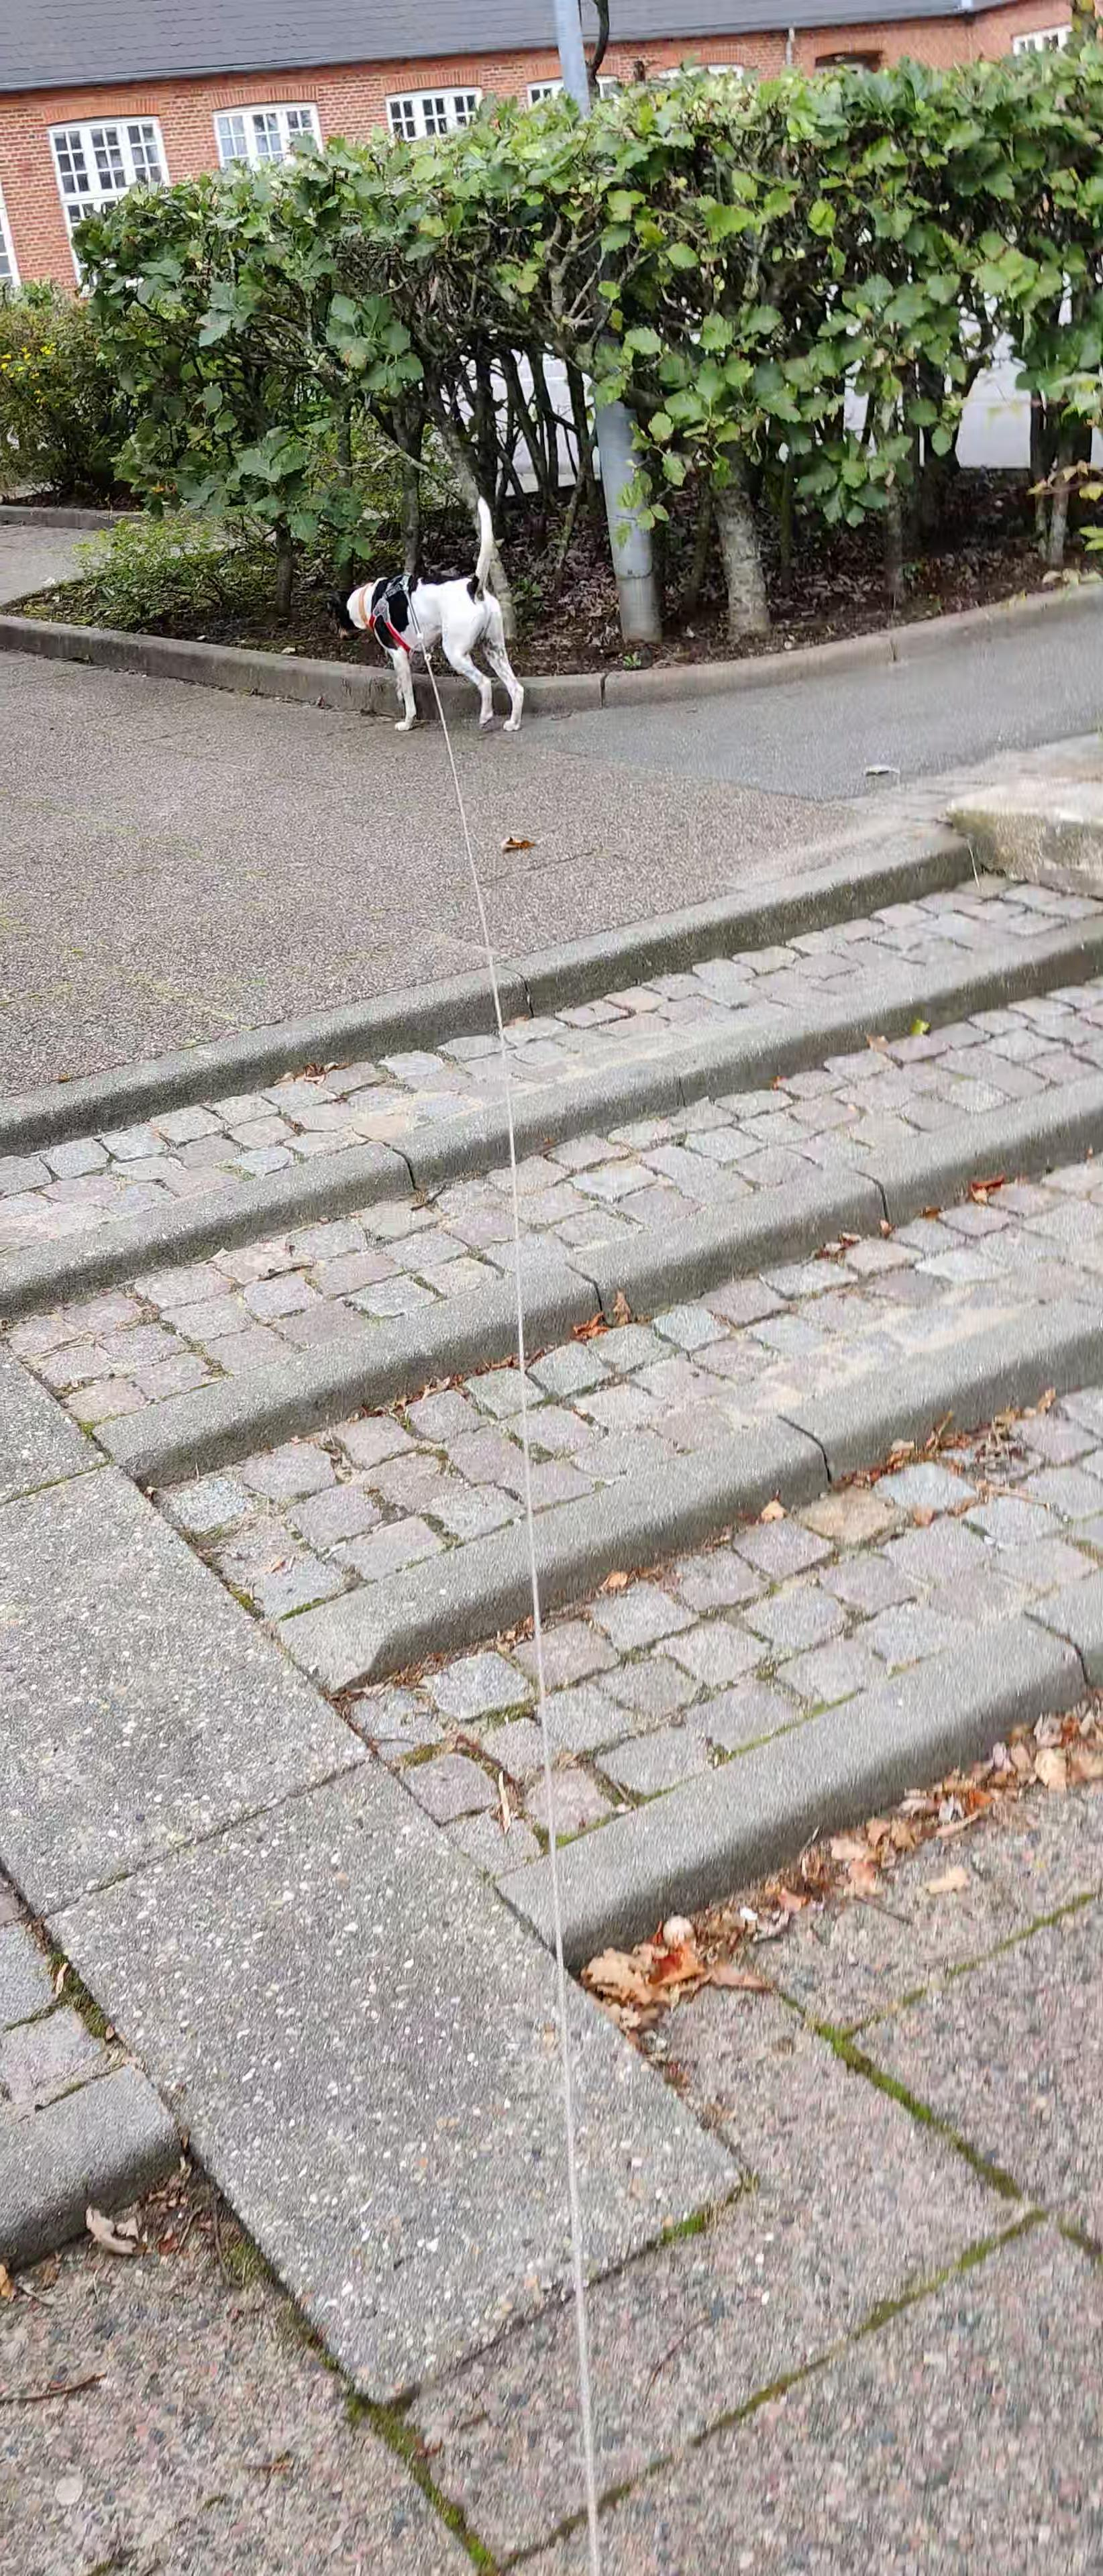Dog: (324, 491, 533, 734)
